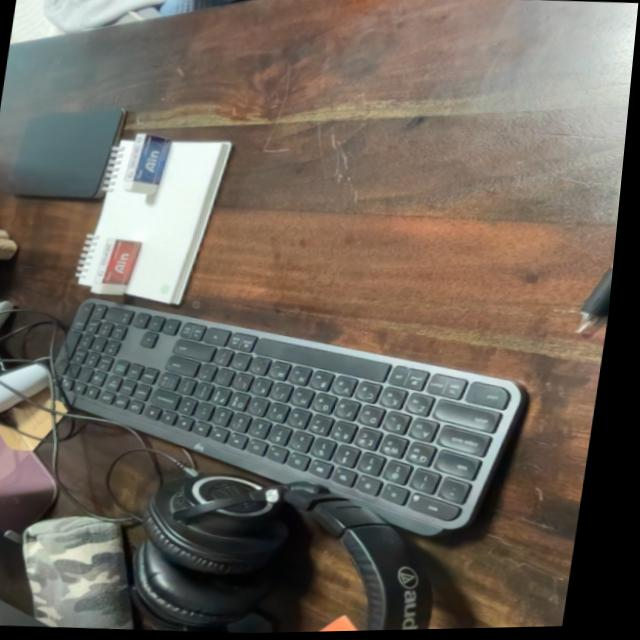blue: (123, 127, 180, 197)
red: (93, 232, 154, 298)
